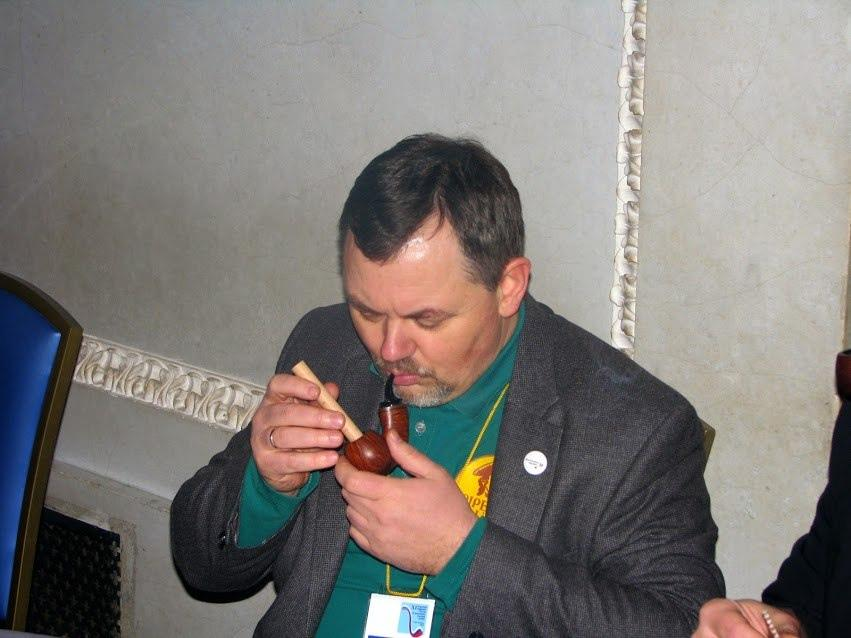trubka: (343, 373, 410, 476)
